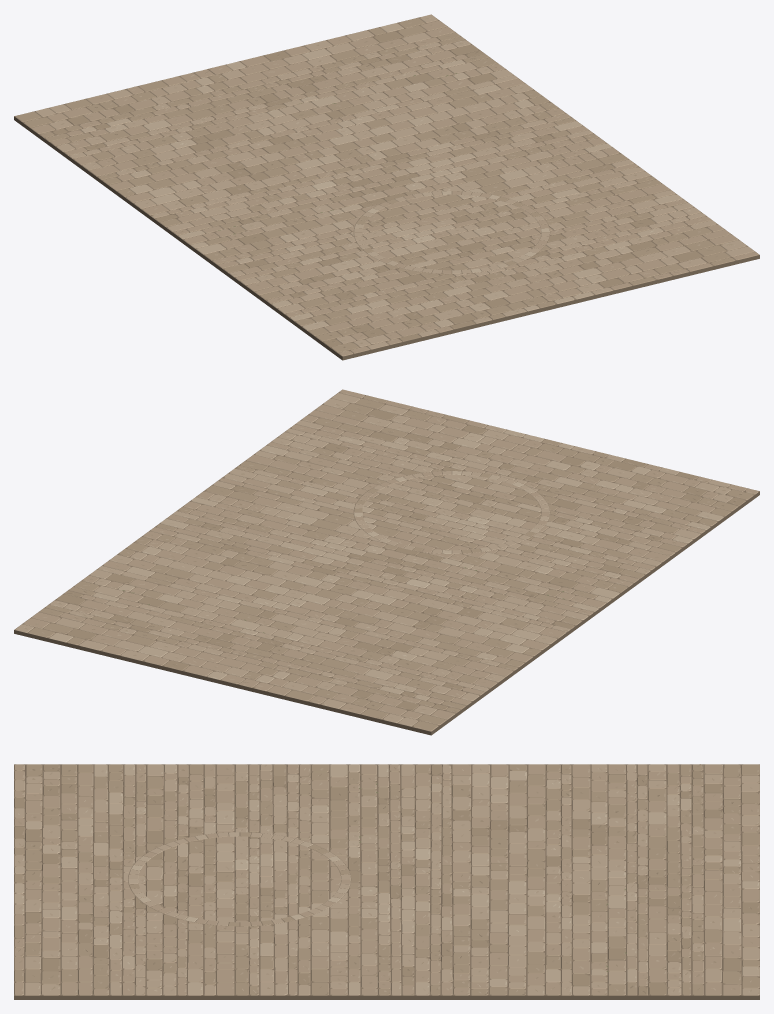
File: plaza-stone-paving.glb
3 renders of one model, top to bottom at view 1: azimuth 30°, elevation 25°; view 2: azimuth 150°, elevation 25°; view 3: azimuth 270°, elevation 25°, orthographic. The views are drawn at different scales.
Parts seen in each view (by area): view 1: StoneTileSurface, StoneBedding; view 2: StoneTileSurface, StoneBedding; view 3: StoneTileSurface, StoneBedding.
Part boxes in pixels (bbox=[...]): StoneTileSurface: bbox=[15, 14, 758, 355]; StoneBedding: bbox=[14, 14, 759, 360]; StoneTileSurface: bbox=[15, 389, 758, 731]; StoneBedding: bbox=[14, 389, 759, 735]; StoneTileSurface: bbox=[14, 764, 759, 995]; StoneBedding: bbox=[14, 764, 759, 999].
Size of the model in its own units: 22 by 0.227 by 30.
